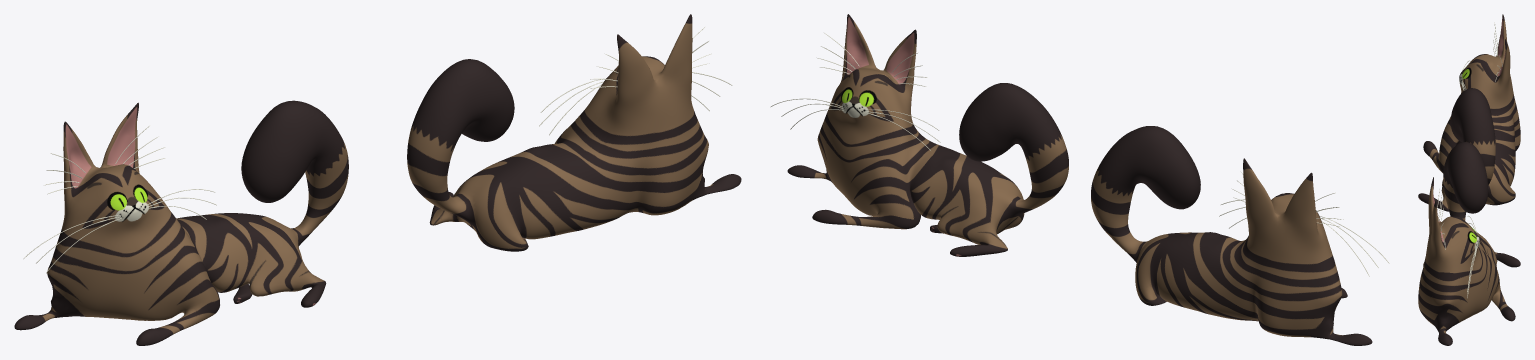
File: 2Cats.glb
The picture shows the model from 3 angles, left to right: view 1: azimuth 30°, elevation 25°; view 2: azimuth 150°, elevation 25°; view 3: azimuth 270°, elevation 25°; orthographic projection. The views are drawn at different scales.
Parts seen in each view (by area): view 1: node_id30, node_id38; view 2: node_id38, node_id30; view 3: node_id38, node_id30.
Part boxes in pixels (x1,y1,x2,y2): node_id30: (14, 100, 348, 345); node_id38: (407, 14, 741, 251); node_id38: (770, 14, 1068, 256); node_id30: (1091, 126, 1389, 345); node_id38: (1418, 142, 1520, 345); node_id30: (1418, 14, 1520, 211).
Size of the model in its own units: 1.1 by 0.2838 by 0.2048.
Materials: 1 (1 with a texture image).
